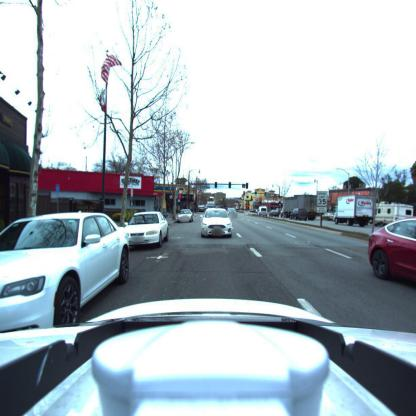car: (0, 211, 136, 341), (368, 216, 416, 297), (124, 212, 170, 250), (201, 209, 233, 238), (177, 208, 194, 223), (290, 210, 308, 221), (258, 207, 268, 217)
traffic light: (228, 181, 230, 189)
truck: (334, 194, 375, 228), (373, 202, 415, 228)
